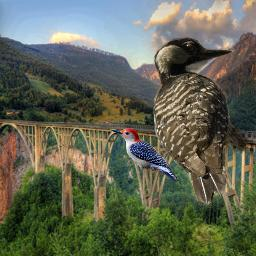Woodpecker: (153, 36, 253, 209), (110, 128, 179, 182)
